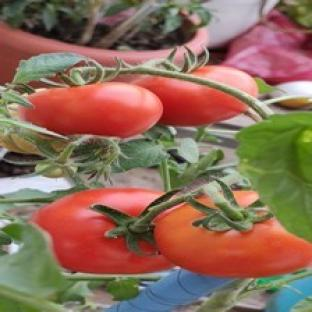Tomato: (31, 189, 172, 274), (155, 204, 311, 277), (19, 83, 162, 137), (134, 77, 246, 126), (0, 124, 68, 154)
